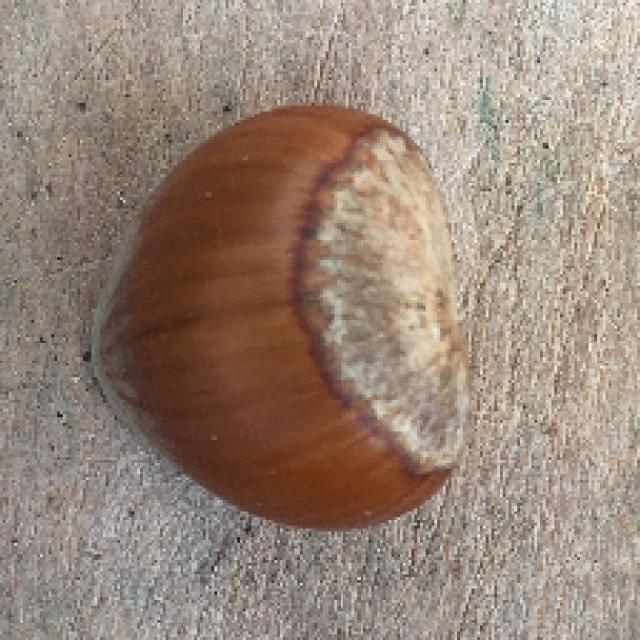qualityHazelnut: (87, 96, 483, 538)
